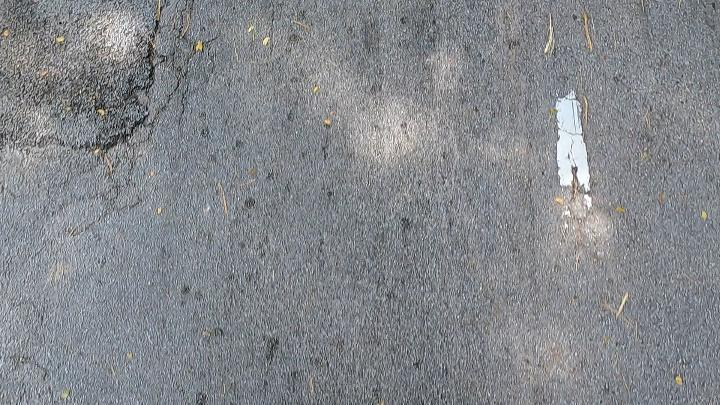Lane: (551, 93, 602, 206), (556, 91, 589, 206)
Pothole: (0, 0, 179, 157), (0, 0, 178, 150)
